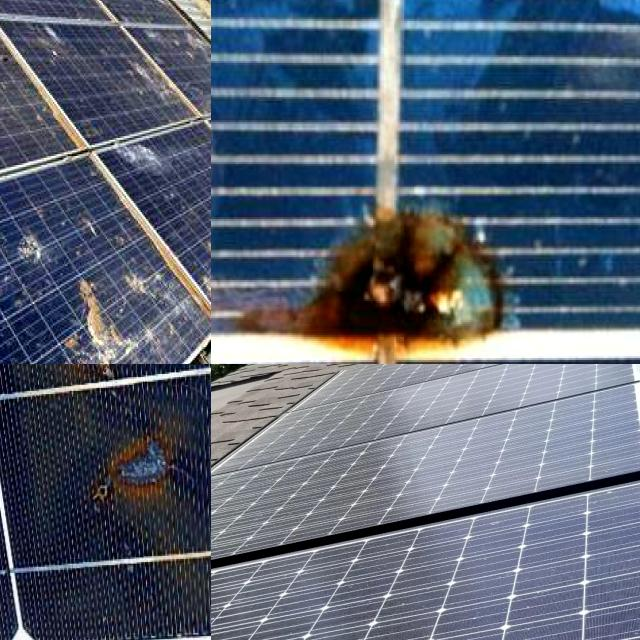bird: (112, 45, 193, 117), (103, 132, 183, 188), (0, 234, 40, 336), (68, 274, 112, 364), (122, 249, 192, 304), (0, 42, 32, 104), (32, 23, 76, 68), (0, 122, 26, 195), (0, 142, 30, 204), (0, 0, 31, 57), (19, 214, 50, 267), (0, 77, 30, 118), (201, 214, 211, 314), (0, 0, 20, 22), (0, 0, 17, 25)
shadow: (220, 165, 519, 364), (83, 432, 211, 527), (45, 364, 136, 420)
